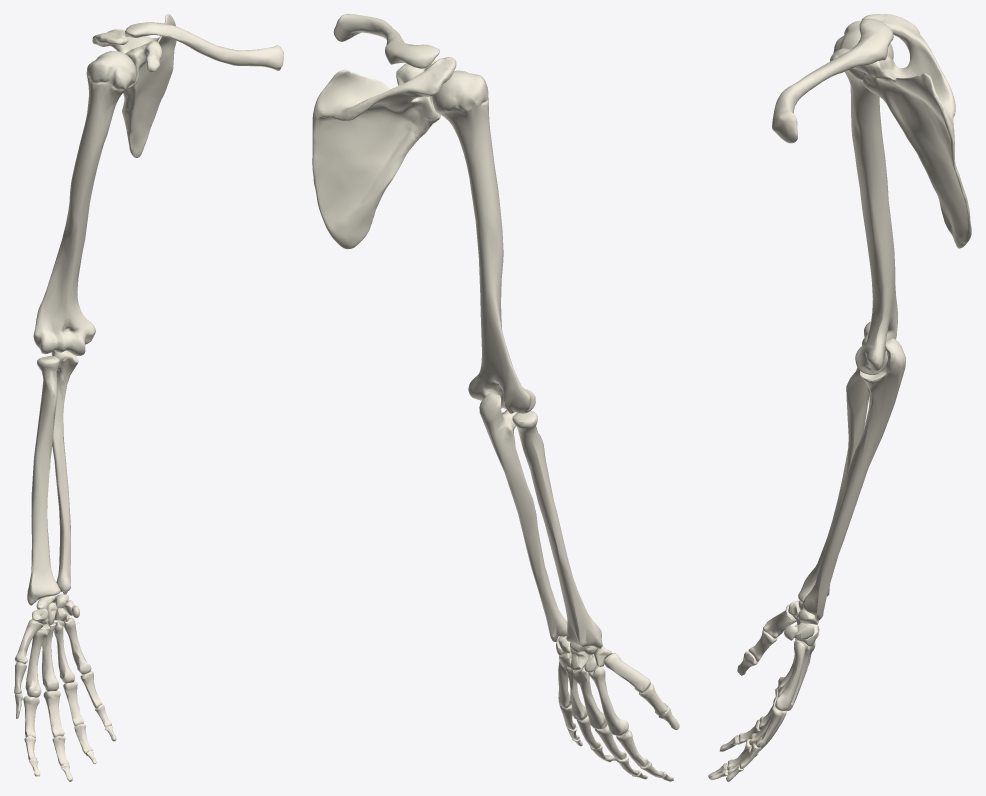
Rendered from arm-right.glb.
The picture shows the model from 3 angles, left to right: view 1: azimuth 30°, elevation 25°; view 2: azimuth 150°, elevation 25°; view 3: azimuth 270°, elevation 25°; orthographic projection. The views are drawn at different scales.
Parts seen in each view (by area): view 1: bp3d_FMA23130_FJ3368, bp3d_FMA13395_FJ3384, bp3d_FMA23464_FJ3349, bp3d_FMA23467_FJ3391, bp3d_FMA13322_FJ3362, bp3d_FMA24466_FJ3352, bp3d_FMA24468_FJ3354, bp3d_FMA24472_FJ3358, bp3d_FMA24470_FJ3356, bp3d_FMA24452_FJ3325, bp3d_FMA24464_FJ3350, bp3d_FMA24453_FJ3326 (+1 smaller); view 2: bp3d_FMA13395_FJ3384, bp3d_FMA23130_FJ3368, bp3d_FMA23467_FJ3391, bp3d_FMA23464_FJ3349, bp3d_FMA13322_FJ3362, bp3d_FMA24466_FJ3352, bp3d_FMA24468_FJ3354, bp3d_FMA24464_FJ3350; view 3: bp3d_FMA13395_FJ3384, bp3d_FMA23130_FJ3368, bp3d_FMA23467_FJ3391, bp3d_FMA13322_FJ3362, bp3d_FMA23464_FJ3349, bp3d_FMA24472_FJ3358, bp3d_FMA24464_FJ3350.
Part boxes in pixels (x1=…): bp3d_FMA23130_FJ3368: x1=33, y1=51, x2=136, y2=355; bp3d_FMA13395_FJ3384: x1=92, y1=14, x2=176, y2=157; bp3d_FMA23464_FJ3349: x1=27, y1=355, x2=60, y2=605; bp3d_FMA23467_FJ3391: x1=51, y1=350, x2=78, y2=594; bp3d_FMA13322_FJ3362: x1=124, y1=22, x2=283, y2=70; bp3d_FMA24466_FJ3352: x1=25, y1=624, x2=50, y2=697; bp3d_FMA24468_FJ3354: x1=42, y1=623, x2=58, y2=691; bp3d_FMA24472_FJ3358: x1=63, y1=617, x2=91, y2=674; bp3d_FMA24470_FJ3356: x1=53, y1=621, x2=74, y2=683; bp3d_FMA24452_FJ3325: x1=43, y1=690, x2=64, y2=737; bp3d_FMA24464_FJ3350: x1=14, y1=619, x2=43, y2=663; bp3d_FMA24453_FJ3326: x1=63, y1=681, x2=83, y2=726; bp3d_FMA13395_FJ3384: x1=312, y1=57, x2=456, y2=249; bp3d_FMA23130_FJ3368: x1=432, y1=70, x2=535, y2=413; bp3d_FMA23467_FJ3391: x1=479, y1=393, x2=567, y2=641; bp3d_FMA23464_FJ3349: x1=512, y1=410, x2=602, y2=648; bp3d_FMA13322_FJ3362: x1=333, y1=14, x2=439, y2=68; bp3d_FMA24466_FJ3352: x1=588, y1=665, x2=628, y2=735; bp3d_FMA24468_FJ3354: x1=573, y1=667, x2=607, y2=729; bp3d_FMA24464_FJ3350: x1=604, y1=653, x2=650, y2=693; bp3d_FMA13395_FJ3384: x1=830, y1=14, x2=971, y2=248; bp3d_FMA23130_FJ3368: x1=833, y1=20, x2=897, y2=374; bp3d_FMA23467_FJ3391: x1=802, y1=338, x2=906, y2=620; bp3d_FMA13322_FJ3362: x1=772, y1=18, x2=893, y2=143; bp3d_FMA23464_FJ3349: x1=798, y1=368, x2=869, y2=602; bp3d_FMA24472_FJ3358: x1=775, y1=640, x2=806, y2=710; bp3d_FMA24464_FJ3350: x1=763, y1=604, x2=796, y2=638.
Size of the model in its own units: 0.3143 by 0.7024 by 0.2005.
